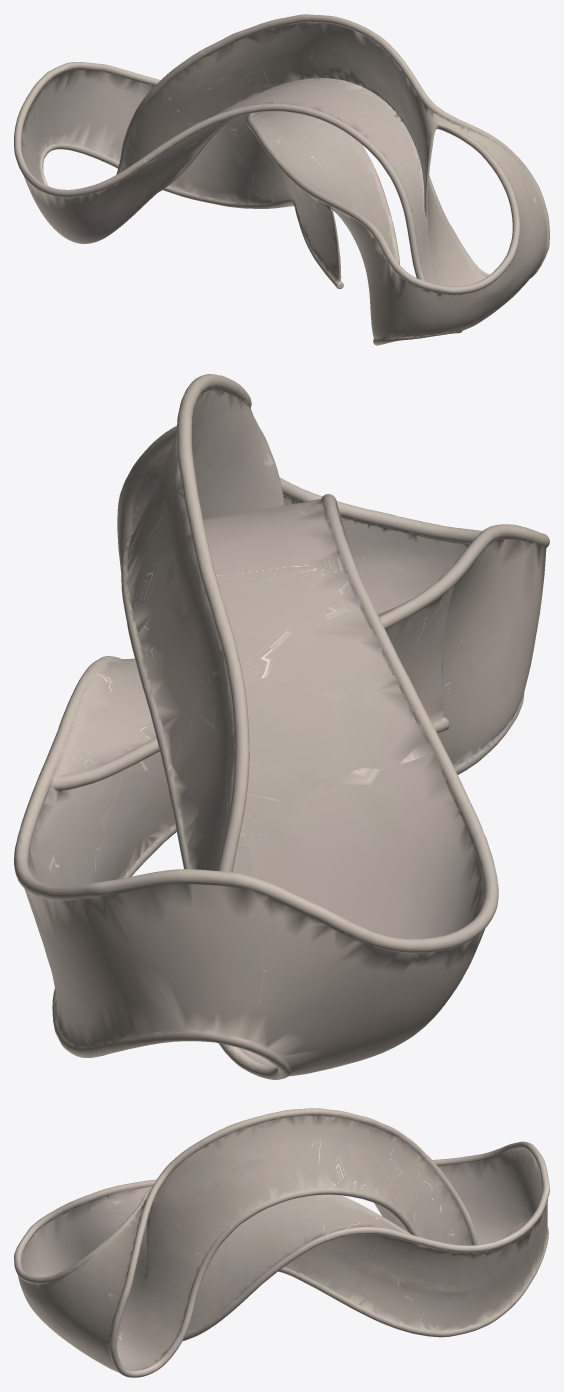
The model's file is ribbon.glb.
The picture shows the model from 3 angles, top to bottom: view 1: azimuth 30°, elevation 25°; view 2: azimuth 150°, elevation 25°; view 3: azimuth 270°, elevation 25°; orthographic projection. The views are drawn at different scales.
Parts seen in each view (by area): view 1: tripo_node_7403e8e2-091a-470a-9255-d7e1bc55763b; view 2: tripo_node_7403e8e2-091a-470a-9255-d7e1bc55763b; view 3: tripo_node_7403e8e2-091a-470a-9255-d7e1bc55763b.
Part boxes in pixels (x1=…): tripo_node_7403e8e2-091a-470a-9255-d7e1bc55763b: x1=14, y1=14, x2=549, y2=345; tripo_node_7403e8e2-091a-470a-9255-d7e1bc55763b: x1=14, y1=374, x2=549, y2=1079; tripo_node_7403e8e2-091a-470a-9255-d7e1bc55763b: x1=14, y1=1108, x2=549, y2=1377.
Size of the model in its own units: 0.7318 by 0.5039 by 1.02.
1 material, 1 textured.
